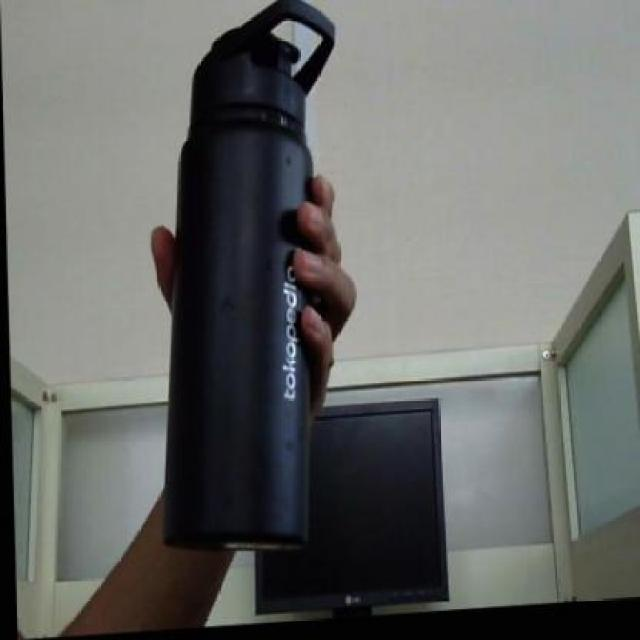Metal: (165, 117, 325, 563)
